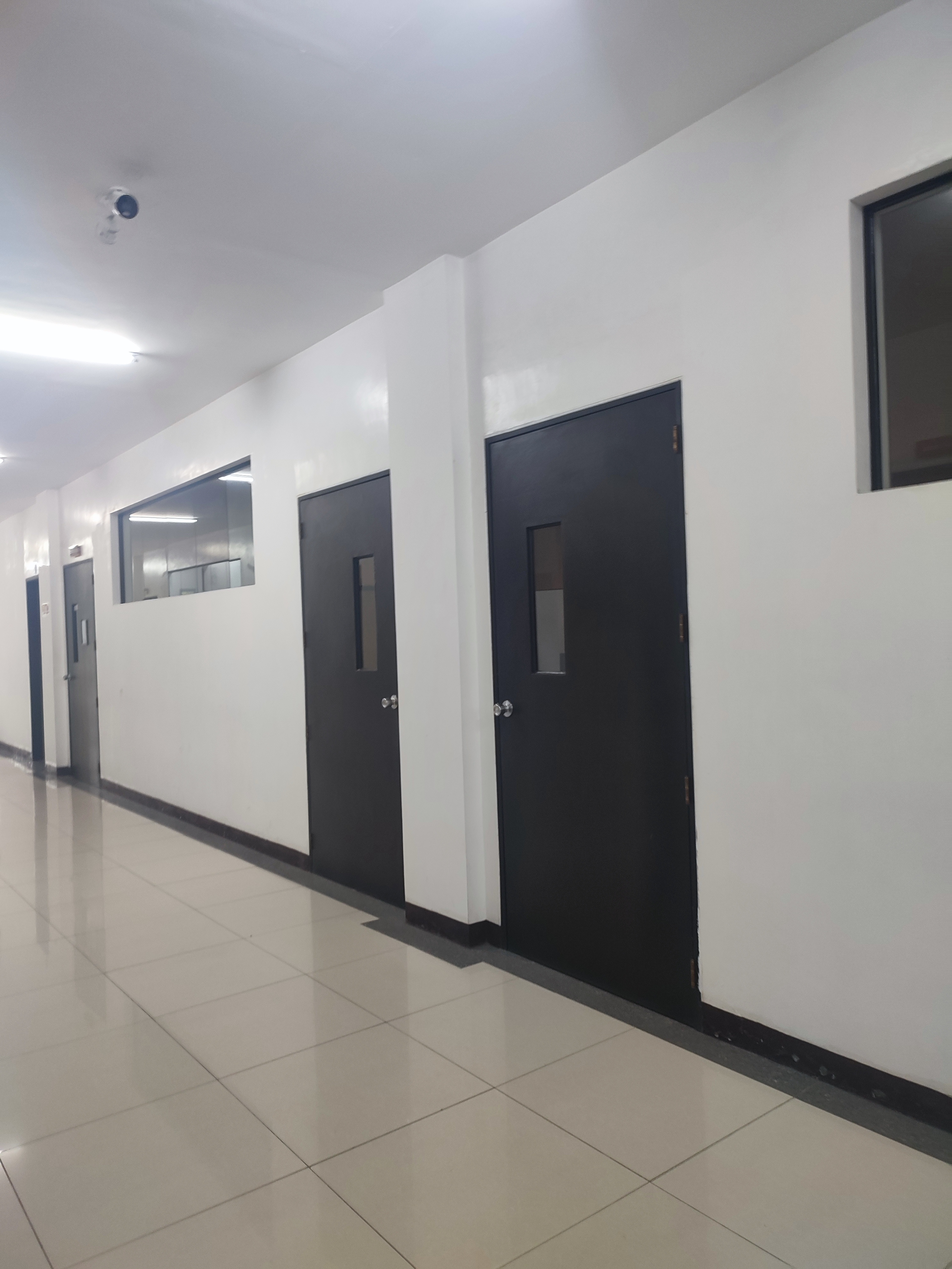door: (485, 384, 698, 1023), (297, 473, 405, 907)
